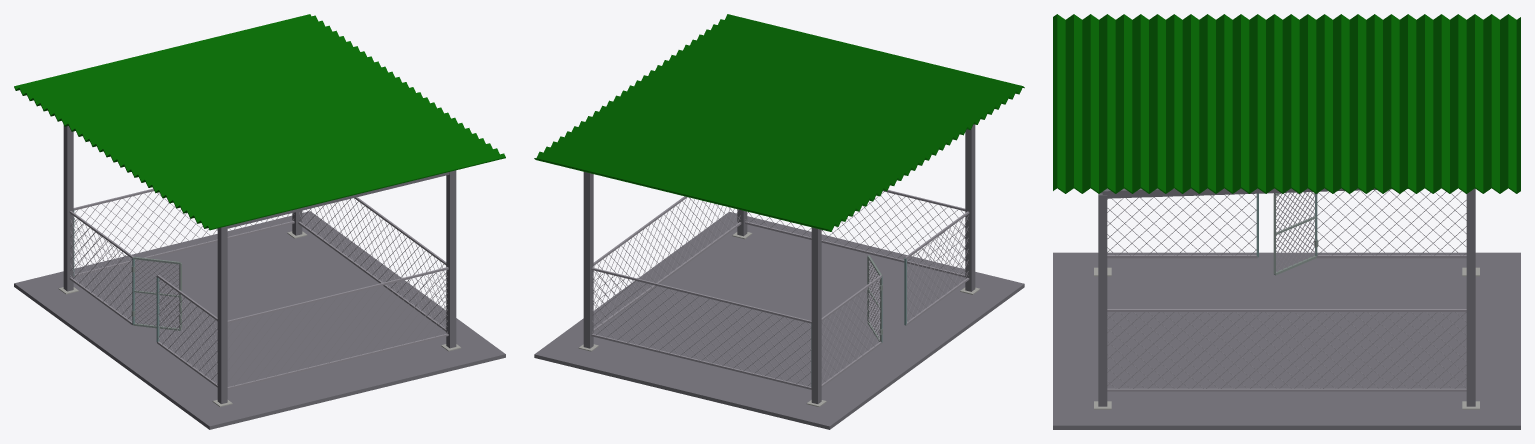
Rendered from SteelRoofV10_WebAR2.glb.
3 renders of one model, left to right at view 1: azimuth 30°, elevation 25°; view 2: azimuth 150°, elevation 25°; view 3: azimuth 270°, elevation 25°, orthographic. The views are drawn at different scales.
Parts seen in each view (by area): view 1: Green_Corrugated_Roof, White_Floor, Column_FL, Column_FR, Column_BL, Beam_Front, Fence_Front_Full_Top, Fence_Front_Full_Bottom, Fence_Back_Bottom, Fence_Right_Bottom; view 2: Green_Corrugated_Roof, White_Floor, Column_BL, Column_BR, Column_FL, Fence_Back_Top, Fence_Back_Bottom, Fence_Front_Full_Bottom, Fence_Right_Bottom; view 3: Green_Corrugated_Roof, White_Floor, Column_BR, Column_FR, Fence_Right_Bottom, Fence_Right_Top, Beam_Right, Fence_Gable_A_Bottom, Fence_Gable_B_Bottom.
Boxes of the visible parts, x1,y1,x2,y2 form: Green_Corrugated_Roof: [14, 14, 505, 230]; White_Floor: [14, 211, 505, 429]; Column_FL: [217, 226, 227, 403]; Column_FR: [446, 170, 456, 348]; Column_BL: [63, 125, 73, 291]; Beam_Front: [227, 172, 449, 228]; Fence_Front_Full_Top: [227, 267, 448, 323]; Fence_Front_Full_Bottom: [227, 333, 448, 389]; Fence_Back_Bottom: [73, 221, 294, 276]; Fence_Right_Bottom: [298, 221, 446, 331]; Green_Corrugated_Roof: [534, 14, 1024, 231]; White_Floor: [534, 211, 1024, 429]; Column_BL: [811, 227, 821, 403]; Column_BR: [583, 172, 593, 348]; Column_FL: [965, 124, 975, 291]; Fence_Back_Top: [591, 267, 811, 323]; Fence_Back_Bottom: [591, 334, 811, 389]; Fence_Front_Full_Bottom: [745, 221, 965, 277]; Fence_Right_Bottom: [593, 222, 741, 331]; Green_Corrugated_Roof: [1053, 14, 1520, 193]; White_Floor: [1053, 252, 1520, 429]; Column_BR: [1466, 188, 1475, 406]; Column_FR: [1098, 193, 1107, 406]; Fence_Right_Bottom: [1107, 388, 1466, 391]; Fence_Right_Top: [1107, 309, 1466, 311]; Beam_Right: [1102, 188, 1408, 198]; Fence_Gable_A_Bottom: [1107, 255, 1257, 258]; Fence_Gable_B_Bottom: [1316, 255, 1466, 258].
Size of the model in its own units: 7 by 4.59 by 8.
